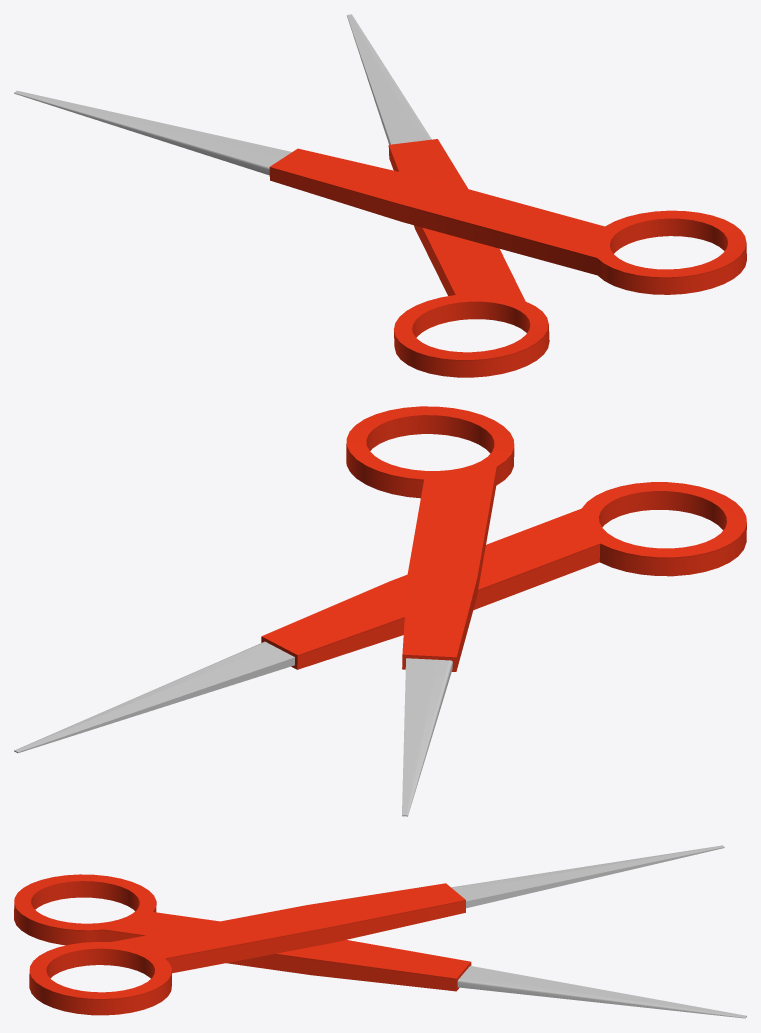
File: Scissor.fbx
3 views of the same model, one above another, from view 1: azimuth 30°, elevation 25°; view 2: azimuth 150°, elevation 25°; view 3: azimuth 270°, elevation 25° (orthographic). The views are drawn at different scales.
Parts seen in each view (by area): view 1: Left, Right; view 2: Right, Left; view 3: Left, Right.
Boxes of the visible parts, <box> form: Left: <box>14,90,746,294</box>; Right: <box>347,14,549,377</box>; Right: <box>14,482,746,753</box>; Left: <box>346,406,514,816</box>; Left: <box>29,845,724,1015</box>; Right: <box>14,874,746,1018</box>.
Size of the model in its own units: 15.03 by 1.81 by 26.96.
1 material, 1 textured.
